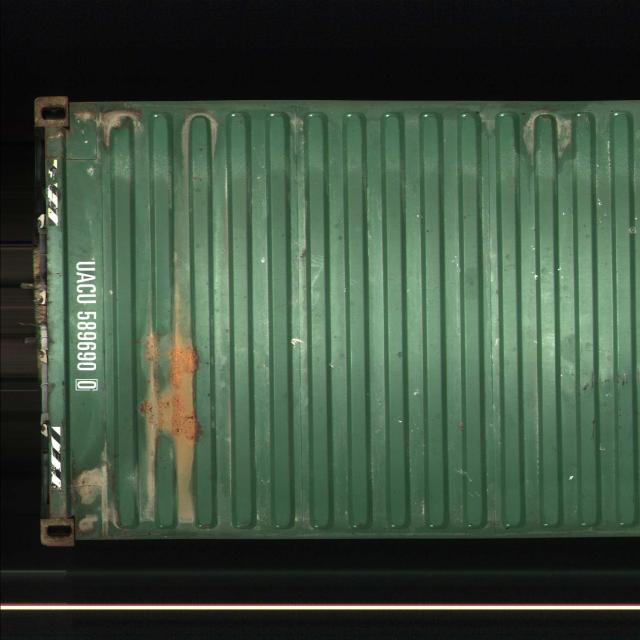rust: (136, 323, 212, 454)
